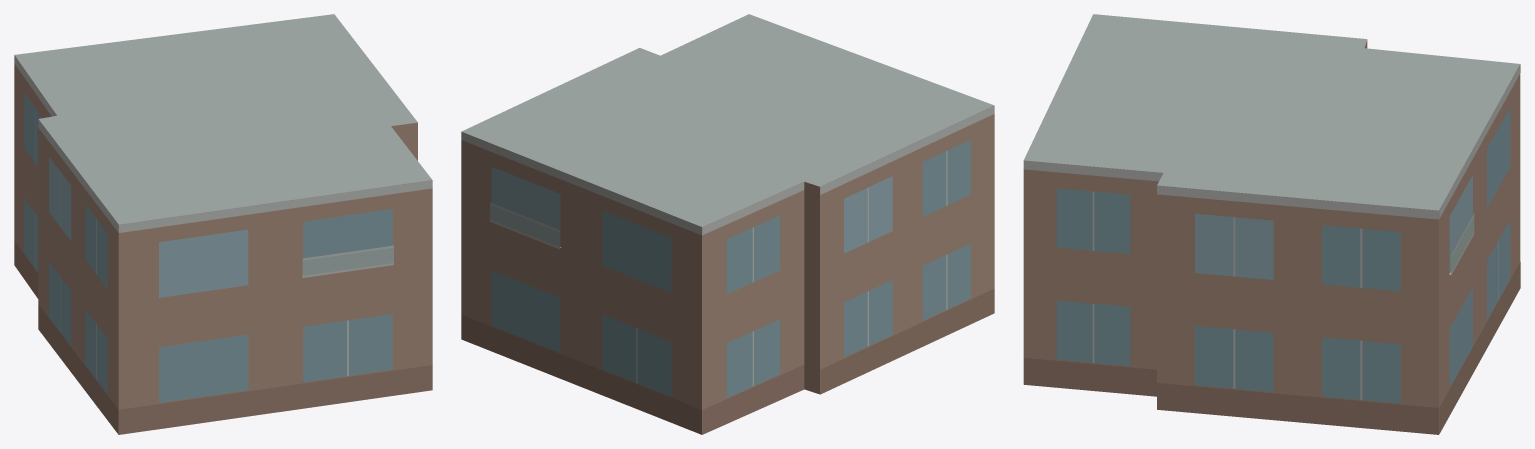
The model's file is survey-upis-32512206.glb.
3 views of the same model, side by side, from view 1: azimuth 30°, elevation 25°; view 2: azimuth 150°, elevation 25°; view 3: azimuth 270°, elevation 25° (orthographic). The views are drawn at different scales.
Visible parts, largest first — view 1: survey-upis-32512206.tmp; view 2: survey-upis-32512206.tmp; view 3: survey-upis-32512206.tmp.
Part boxes in pixels (bbox=[...]): survey-upis-32512206.tmp: bbox=[14, 14, 432, 434]; survey-upis-32512206.tmp: bbox=[461, 14, 994, 434]; survey-upis-32512206.tmp: bbox=[1023, 14, 1520, 434].
Size of the model in its own units: 11.48 by 6.1 by 12.26.
